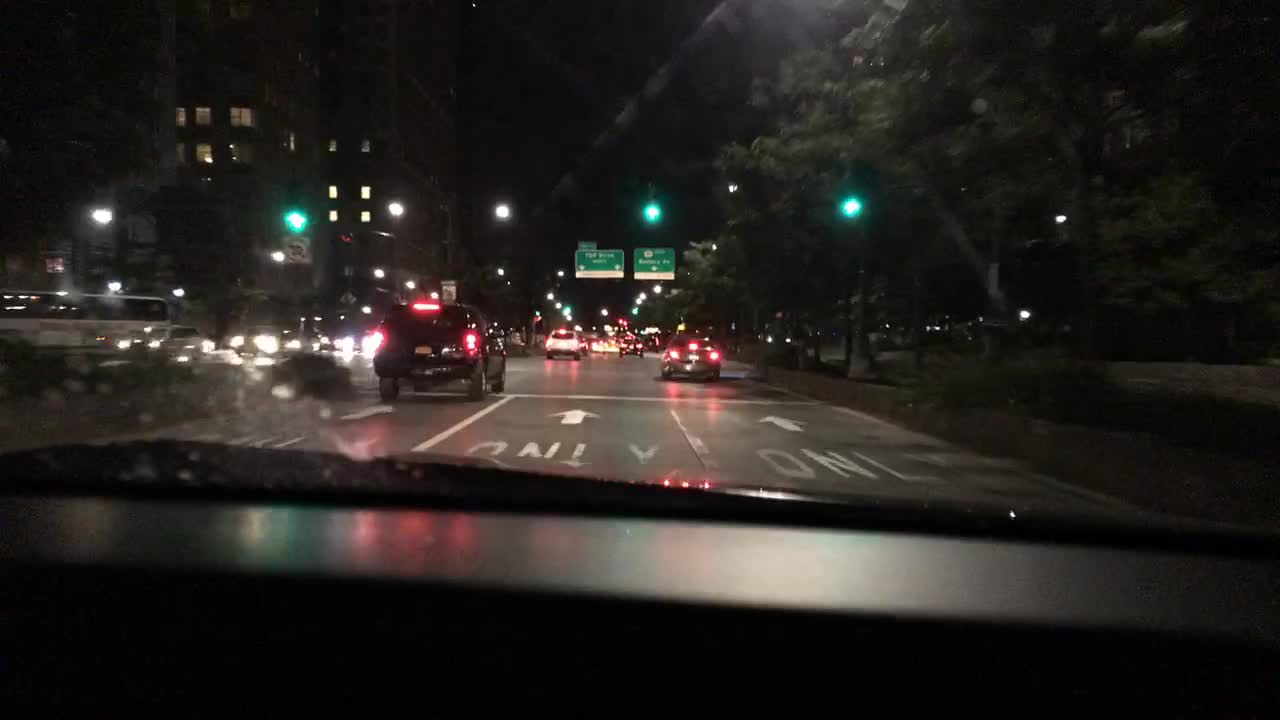bus: (0, 286, 169, 360)
car: (374, 299, 507, 404), (660, 323, 722, 381), (227, 319, 291, 360), (163, 323, 219, 360), (283, 328, 334, 358), (333, 323, 379, 356), (544, 329, 586, 359), (620, 335, 644, 356), (579, 333, 591, 355)
traffic light: (286, 194, 304, 232), (841, 185, 860, 217), (644, 189, 660, 222), (632, 305, 641, 315), (616, 317, 625, 327), (563, 304, 570, 314)
traffic sign: (575, 248, 625, 280), (634, 245, 677, 282), (282, 237, 312, 269), (438, 276, 455, 298), (573, 237, 599, 248)
